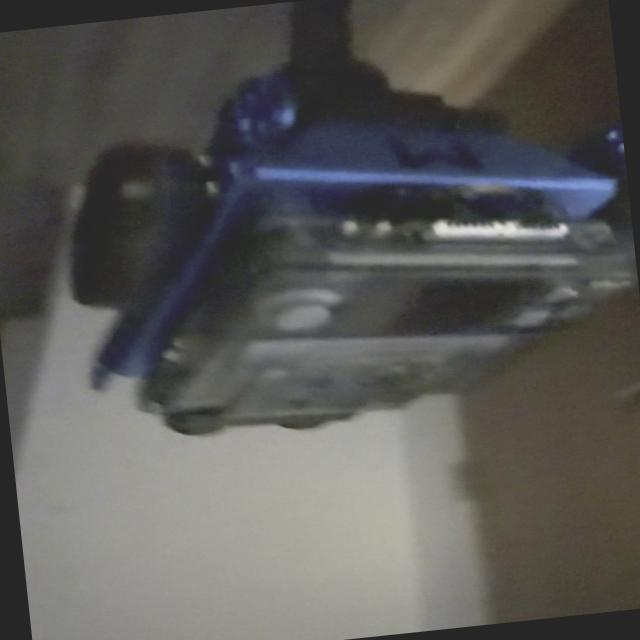mbot-detection: (39, 29, 640, 464)
